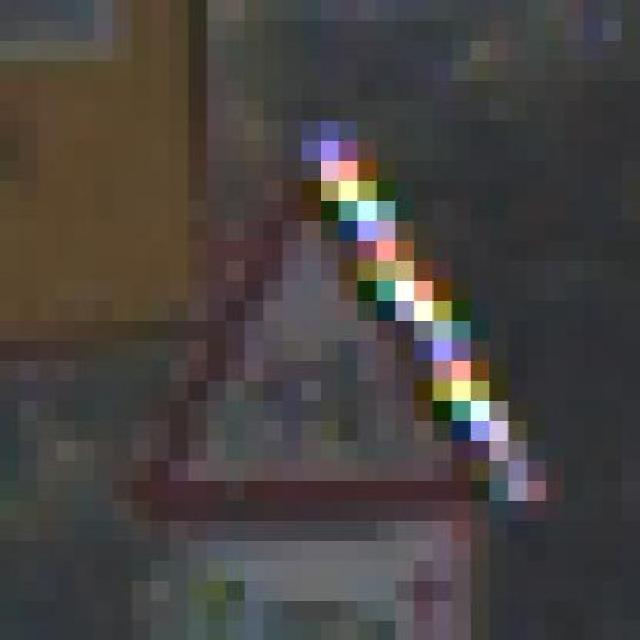CYCLE ROUTE AHEAD WARNING: (112, 60, 546, 540)
